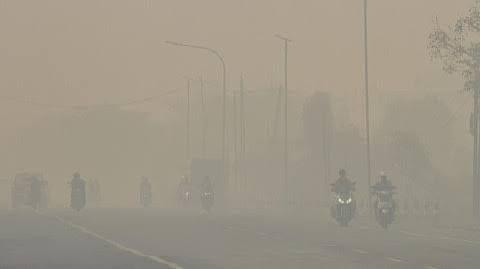Deteksi-Objek-Citra-Berasap: (0, 0, 480, 269)
Kendaraan: (10, 171, 46, 211), (369, 188, 399, 229), (328, 185, 357, 227)
Manusia: (330, 168, 355, 199), (68, 171, 87, 211), (371, 173, 397, 202), (199, 174, 214, 204), (139, 176, 152, 206), (178, 176, 191, 201)
Vegetasi: (426, 8, 480, 176)
